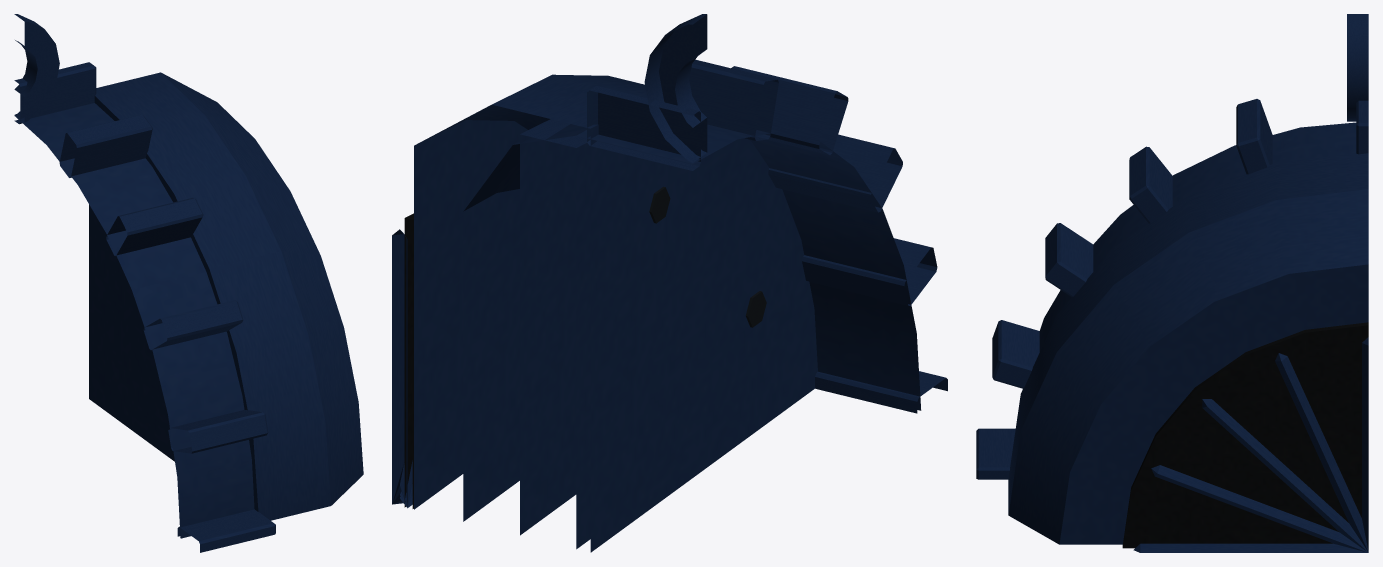
The model's file is cell_23.obj.
3 views of the same model, side by side, from view 1: azimuth 30°, elevation 25°; view 2: azimuth 150°, elevation 25°; view 3: azimuth 270°, elevation 25° (orthographic). The views are drawn at different scales.
Visible parts, largest first — view 1: cell_23; view 2: cell_23; view 3: cell_23.
Boxes of the visible parts, x1,y1,x2,y2 form: cell_23: (14, 14, 363, 552); cell_23: (392, 14, 947, 552); cell_23: (976, 14, 1368, 552).
Size of the model in its own units: 0.426 by 0.7487 by 0.6255.
